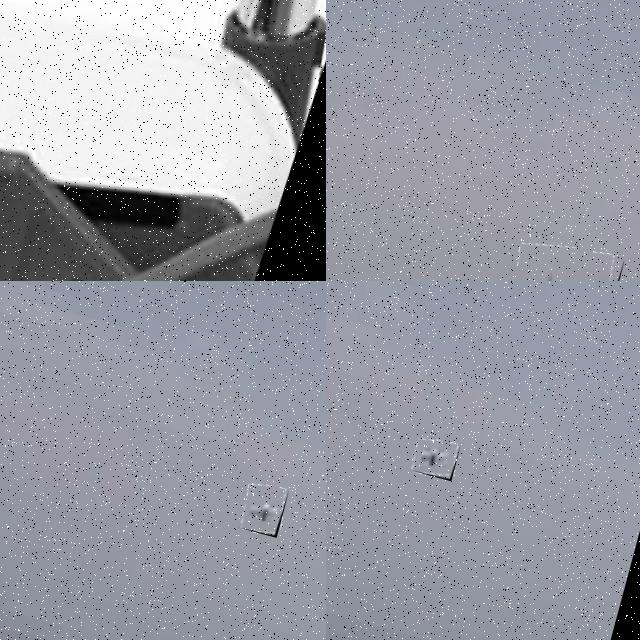0: (496, 234, 624, 281), (238, 480, 289, 537), (410, 434, 460, 480)
drone: (0, 0, 326, 281)
